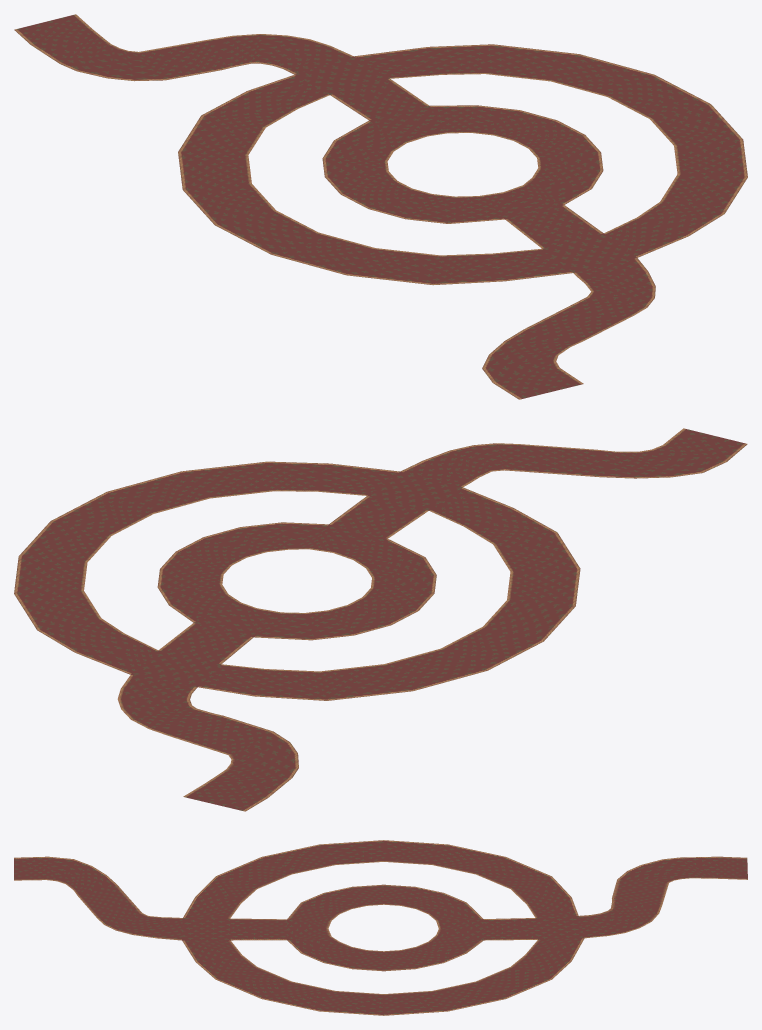
File: road_2.fbx
The picture shows the model from 3 angles, top to bottom: view 1: azimuth 30°, elevation 25°; view 2: azimuth 150°, elevation 25°; view 3: azimuth 270°, elevation 25°; orthographic projection. The views are drawn at different scales.
Parts seen in each view (by area): view 1: polySurface293; view 2: polySurface293; view 3: polySurface293.
Boxes of the visible parts, bbox=[...] form: polySurface293: bbox=[14, 14, 747, 399]; polySurface293: bbox=[14, 428, 747, 811]; polySurface293: bbox=[14, 840, 747, 1015].
Bounding box in the file's own units: 3.03 × 8.25e-08 × 5.34.
